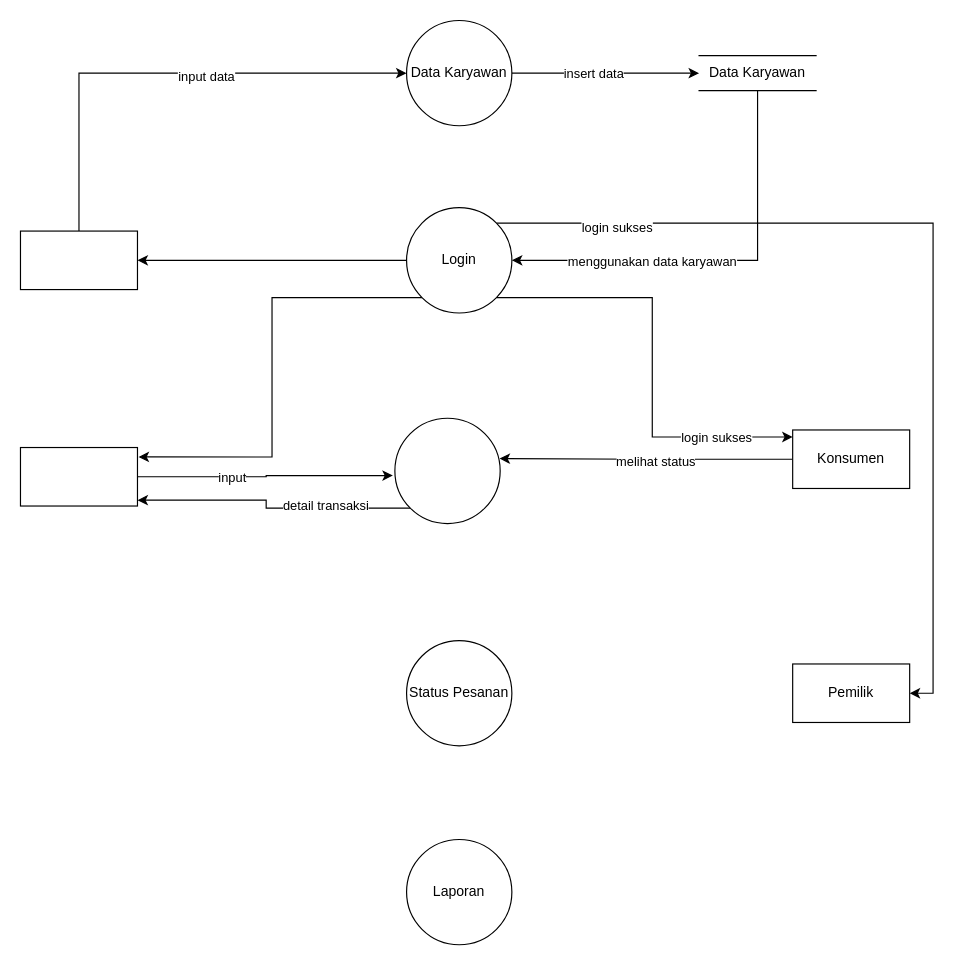
This 963x965 diagram has some shape labels left out. The centre of each missing label's shape, as x and y in pixels:
Administrator: point 78,260
Input Transaksi Laundry: point 447,470
Karyawan: point 78,476
